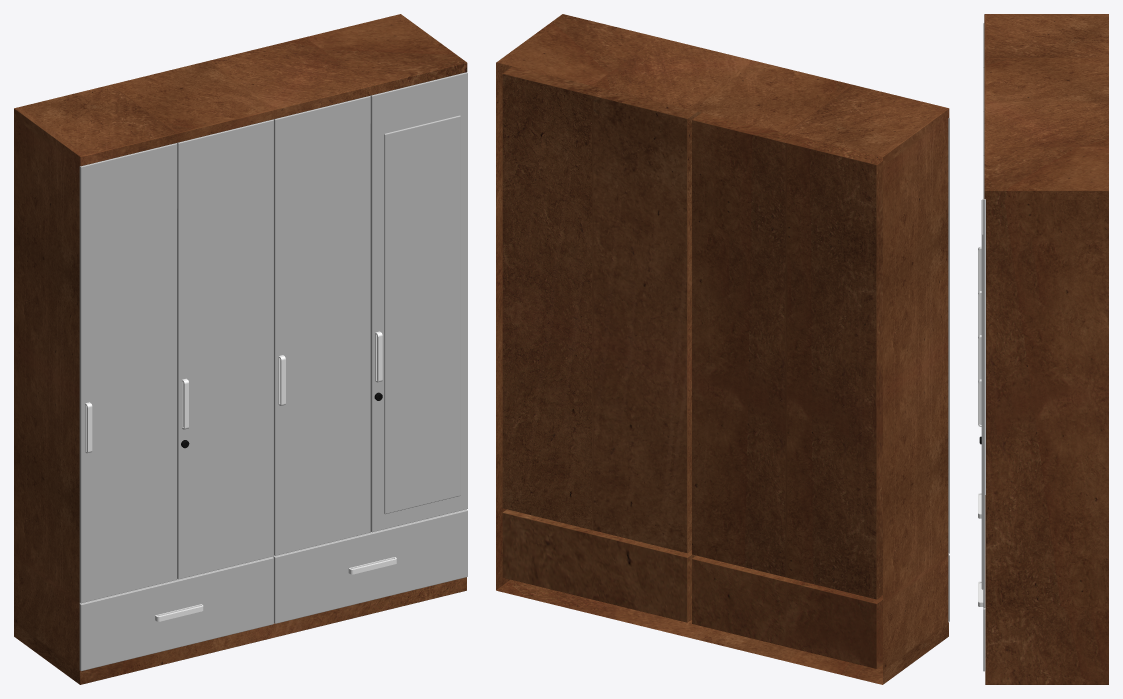
Rendered from Wardrobe  4 door.obj.
3 views of the same model, side by side, from view 1: azimuth 30°, elevation 25°; view 2: azimuth 150°, elevation 25°; view 3: azimuth 270°, elevation 25° (orthographic). The views are drawn at different scales.
Visible parts, largest first — view 1: white_finishing_Plane.001, back_wardrobe_Plane, mirror_Plane.002, door_opener_Plane.003; view 2: back_wardrobe_Plane, white_finishing_Plane.001; view 3: back_wardrobe_Plane, white_finishing_Plane.001, mirror_Plane.002, door_opener_Plane.003.
Part boxes in pixels (x1,y1,x2,y2): white_finishing_Plane.001: (79, 72, 467, 671); back_wardrobe_Plane: (14, 14, 467, 684); mirror_Plane.002: (384, 115, 460, 514); door_opener_Plane.003: (85, 331, 396, 621); back_wardrobe_Plane: (496, 14, 949, 684); white_finishing_Plane.001: (948, 117, 949, 622); back_wardrobe_Plane: (984, 14, 1108, 684); white_finishing_Plane.001: (983, 23, 985, 671); mirror_Plane.002: (981, 199, 983, 589); door_opener_Plane.003: (978, 246, 983, 606).
Bounding box in the file's own units: 2 × 2.61 × 0.6252.
5 materials, 1 textured.
